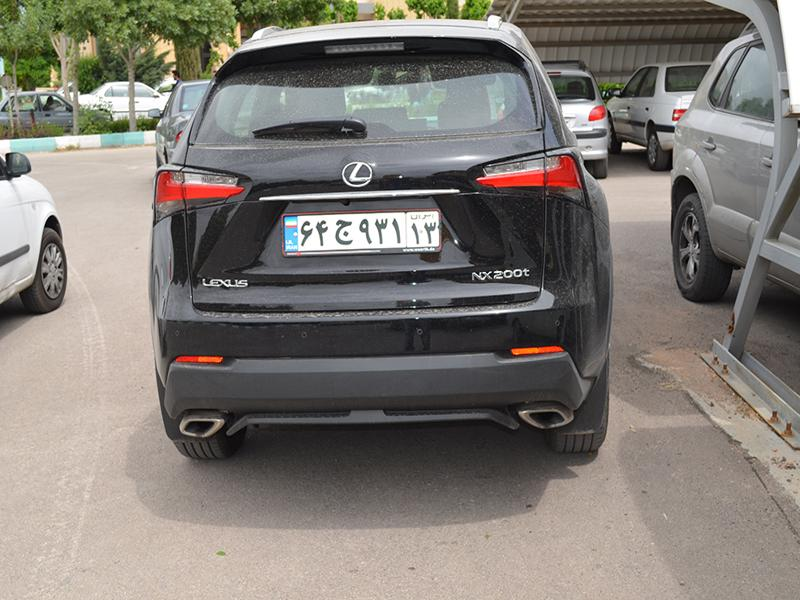Plate: (270, 208, 456, 264)
